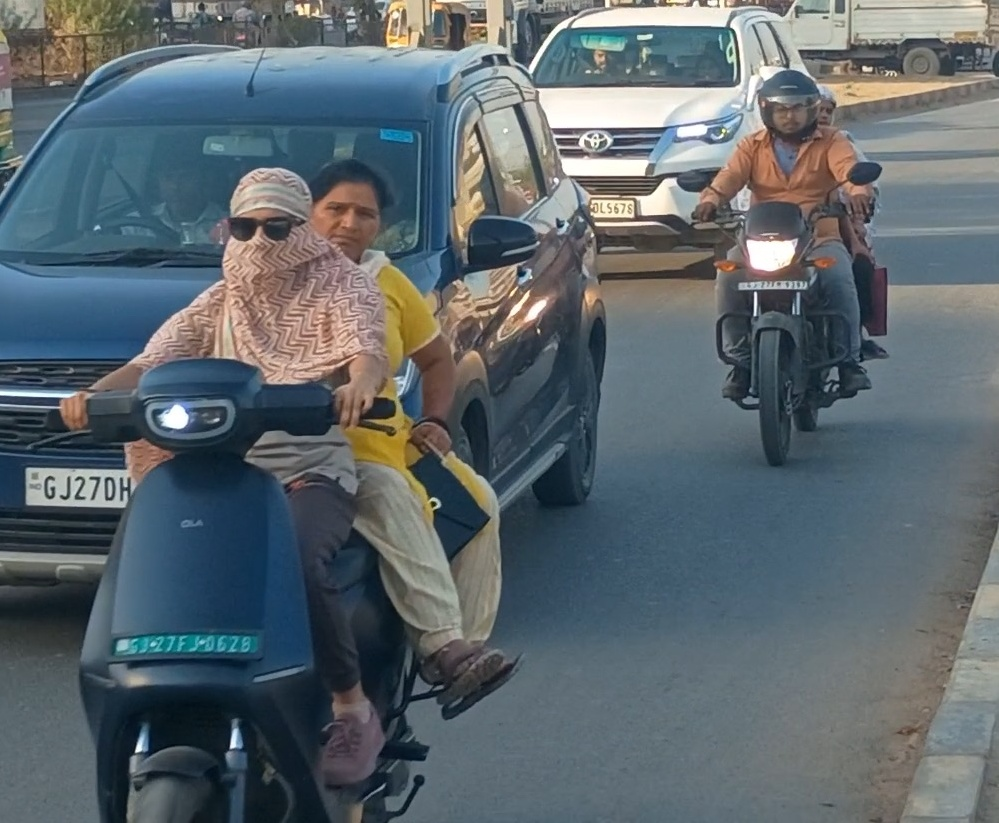BikeWithRider: (42, 143, 560, 823), (683, 61, 900, 474)
Helmet: (746, 62, 836, 147)
NoHelmet: (209, 159, 332, 286), (298, 152, 402, 263)
